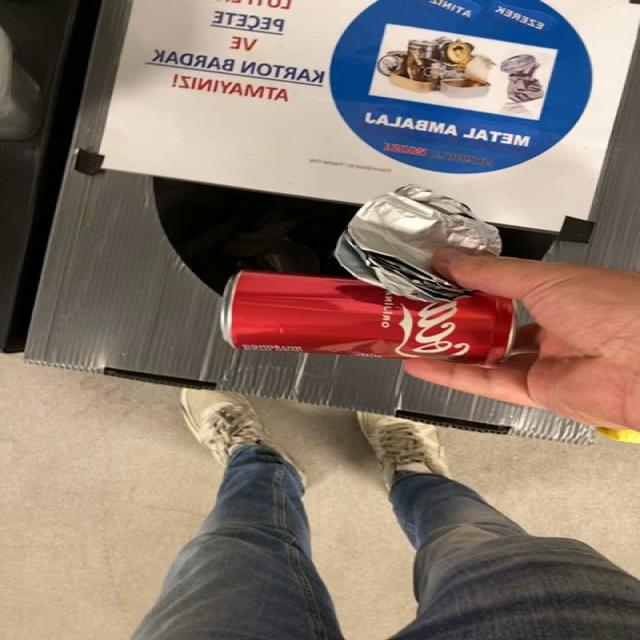bin: (24, 0, 595, 444), (500, 41, 640, 271)
metal: (220, 270, 515, 364)
